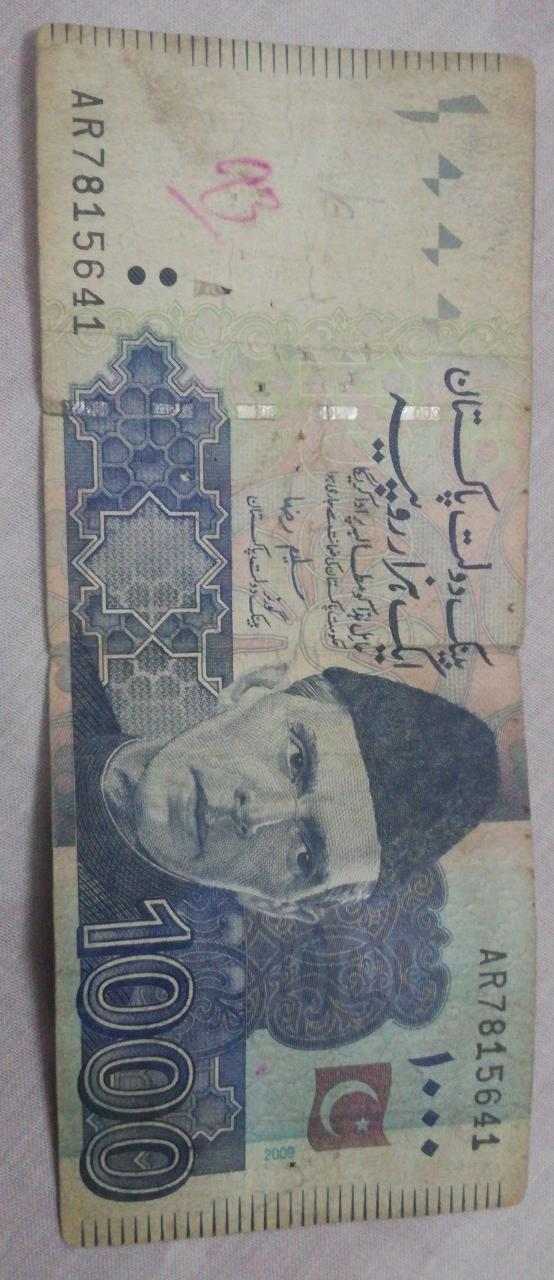1000 rupee: (21, 22, 549, 1272)
